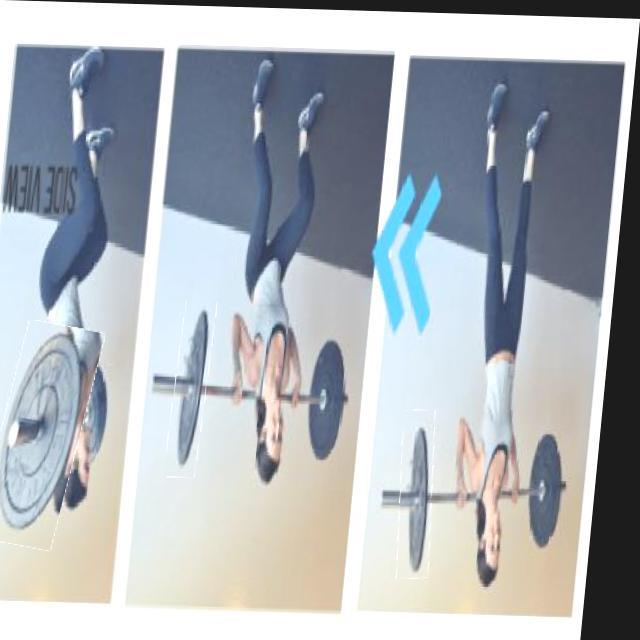barbell: (1, 321, 105, 549), (176, 300, 223, 478), (403, 407, 451, 576)
